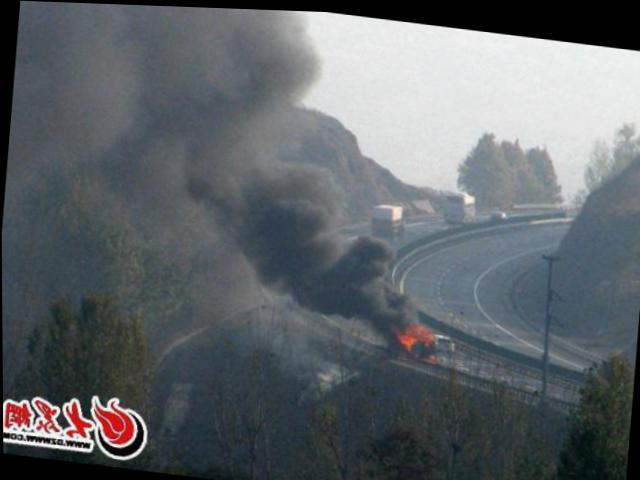fire: (403, 318, 434, 343)
